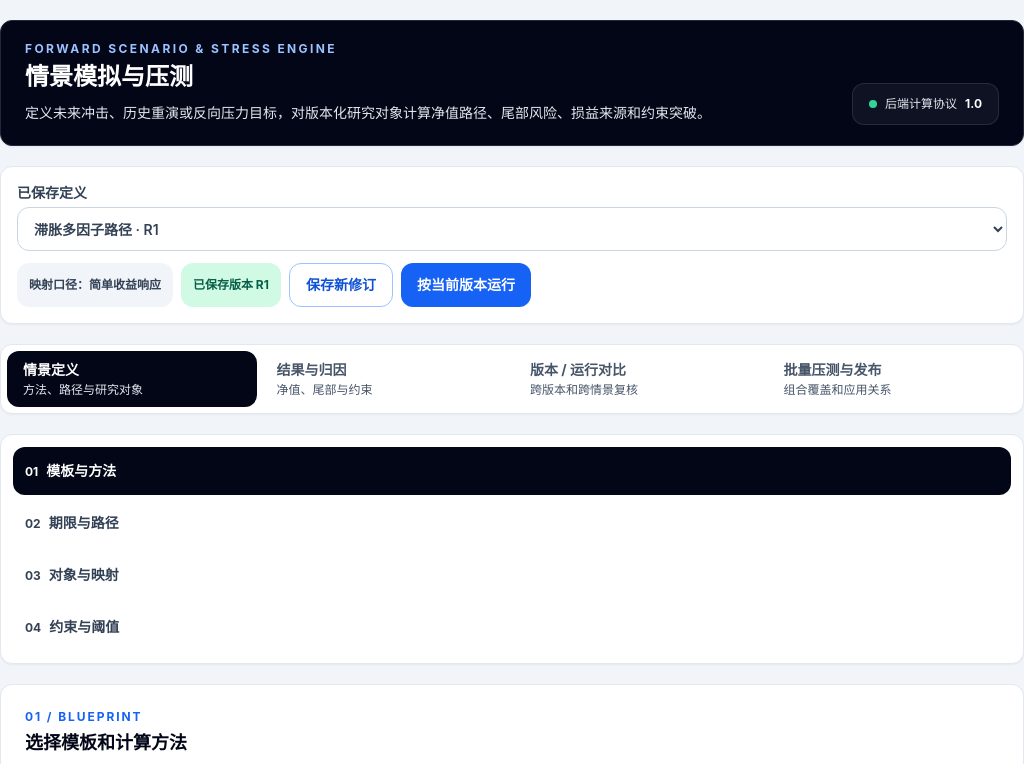
Scenario: ScenarioAlgorithmCenter › 原生 AOT 结果显示真实执行后端
The image size is (1024, 764).
Check: the heading "情景模拟与压测" is shown, box [25, 62, 193, 91]
Step 1. Click the tab "结果与归因 净值、尾部与约束" → x=385, y=379, box [260, 351, 510, 407]
(page scrolled)
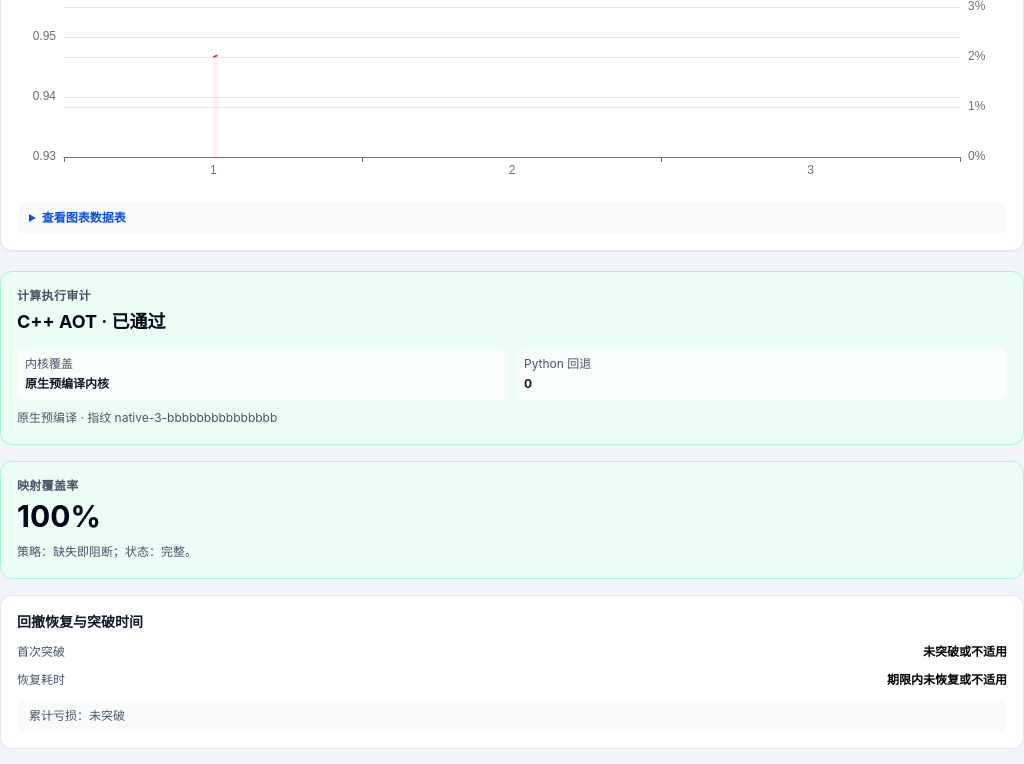
Check: the text "C++ AOT · 已通过" is shown, box [17, 311, 166, 332]
Check: the text "原生预编译内核" is shown, box [25, 376, 109, 391]
